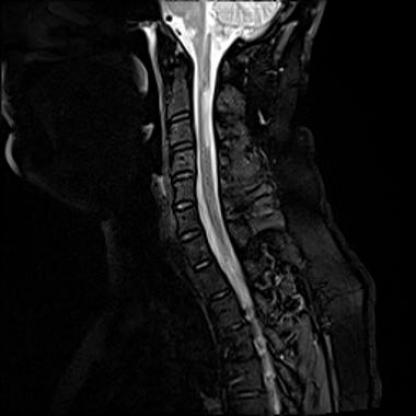Disc Bulgerotation: (170, 136, 196, 158), (179, 224, 203, 246)
